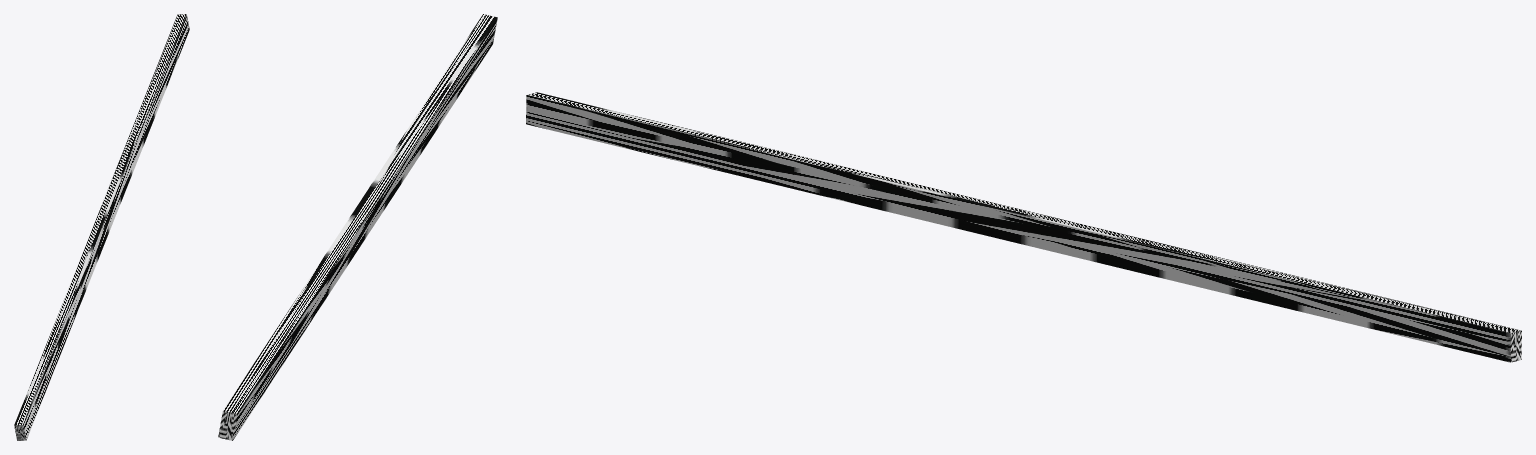
3 views of the same model, side by side, from view 1: azimuth 30°, elevation 25°; view 2: azimuth 210°, elevation 25°; view 3: azimuth 270°, elevation 25° (orthographic). The views are drawn at different scales.
Parts seen in each view (by area): view 1: Cube.043; view 2: Cube.043; view 3: Cube.043.
Boxes of the visible parts, x1,y1,x2,y2 form: Cube.043: [14, 14, 189, 440]; Cube.043: [218, 14, 497, 440]; Cube.043: [526, 92, 1521, 362].
Size of the model in its own units: 16.79 by 3.36 by 18.61.
Materials: 1 (1 with a texture image).
